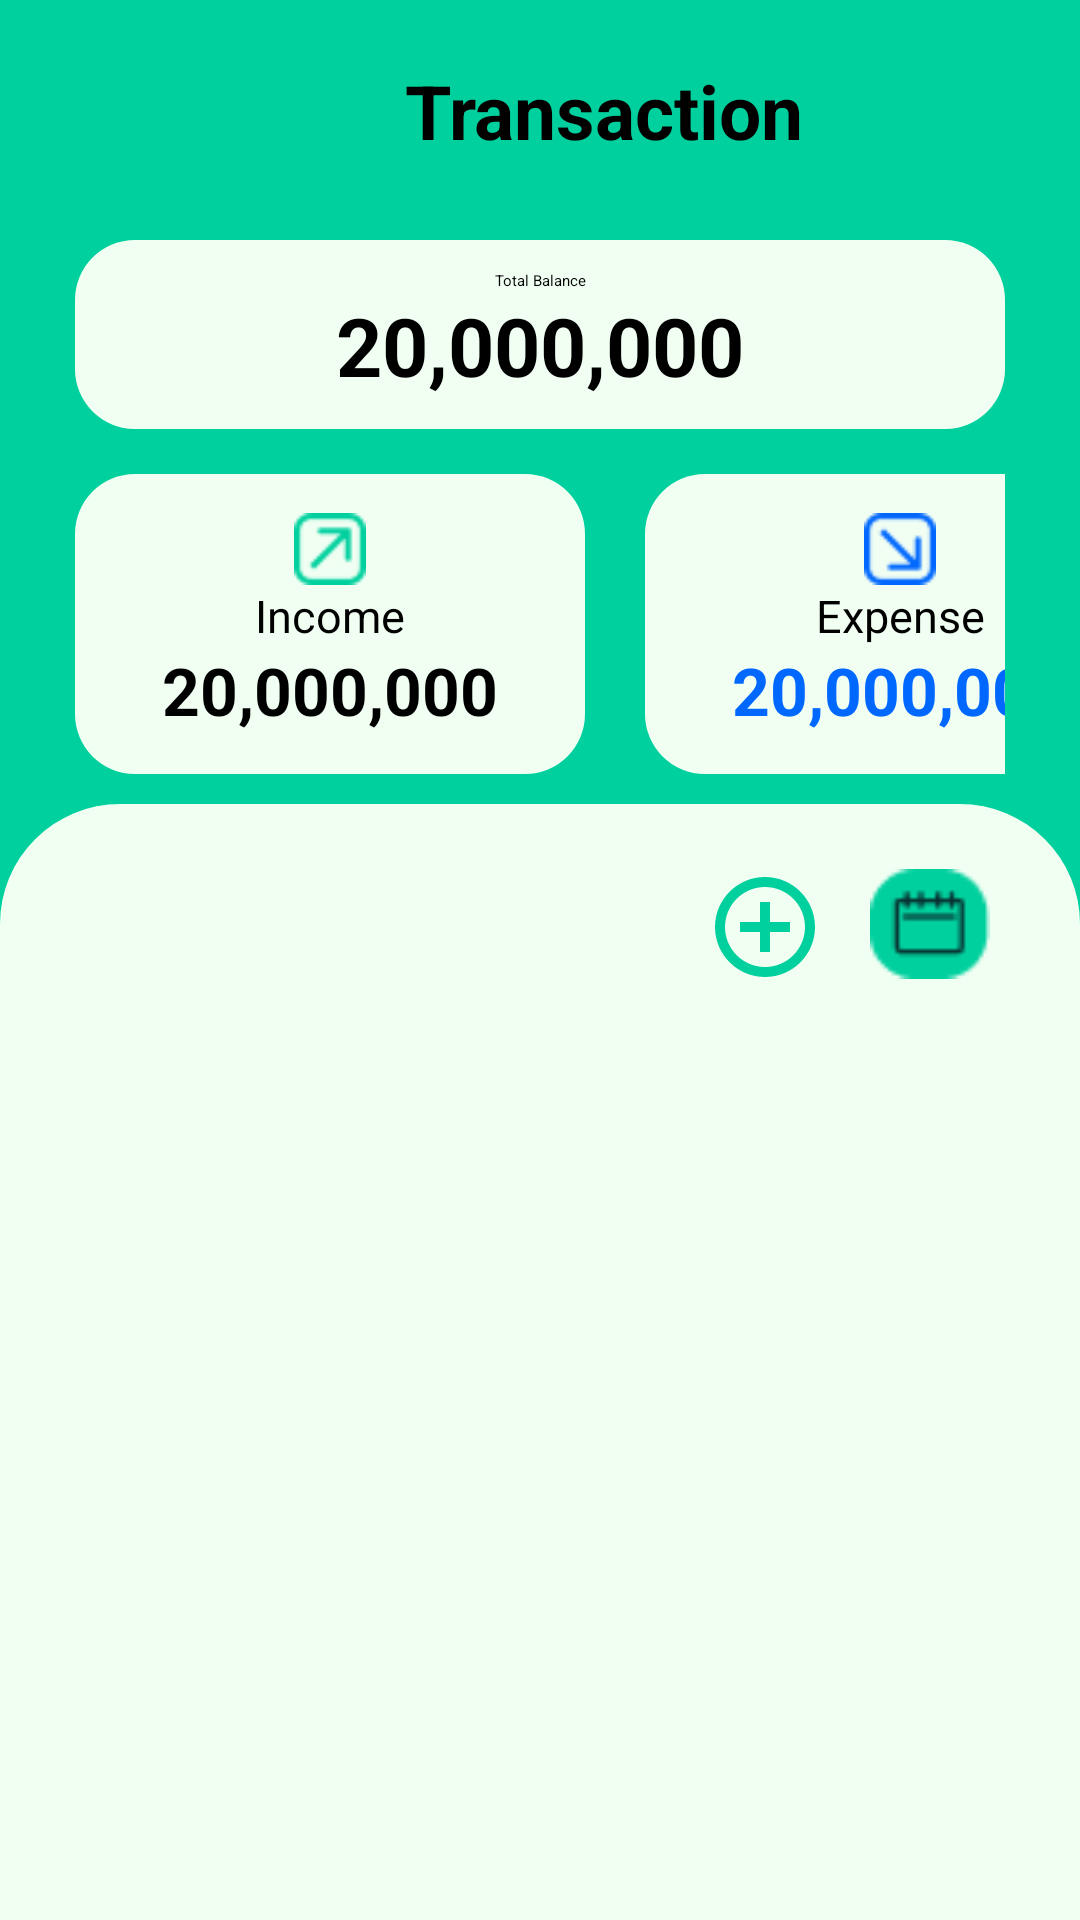

Icon click points for this 1080*1920 phone screenshot, format point (x, y):
Add Button: point (765, 927)
Calender Button: point (930, 924)
